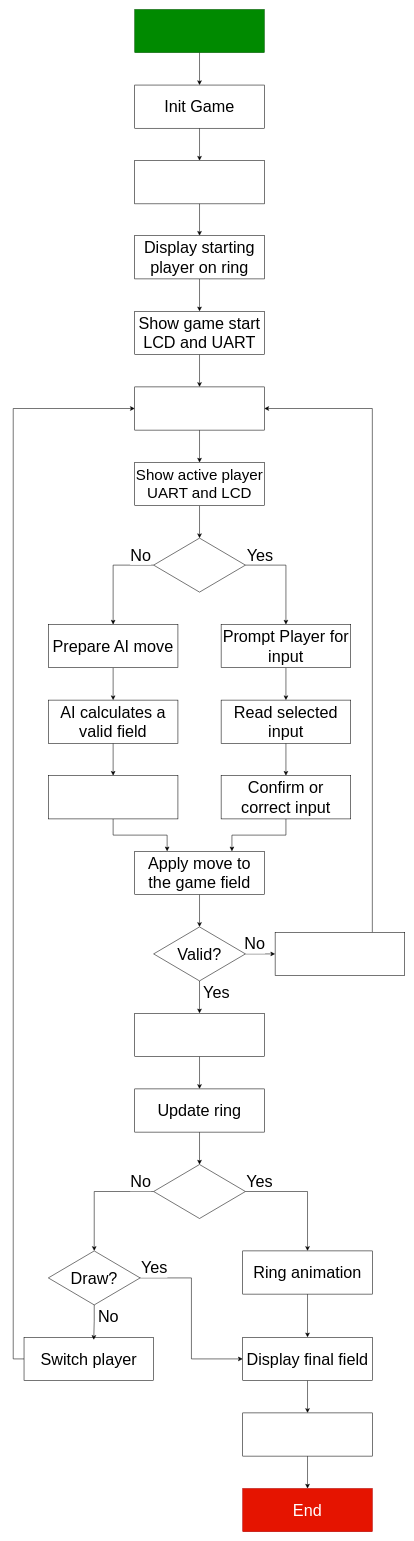
Image size: 414x1541. Some labels were removed from this diagram. The shapes that lost their labels are listed below. From the top down, each one's box as (x1, y1, x2, y2) in pixels, then its label:
(134, 9, 264, 53): Start
(134, 160, 264, 204): Select first player with RNG
(134, 386, 264, 430): Display current game field in UART
(153, 538, 245, 592): Human player turn?
(48, 775, 178, 819): Display chosen move
(275, 932, 405, 976): Show error message
(134, 1013, 264, 1057): Confirm selection
(153, 1164, 245, 1219): Win?
(242, 1412, 372, 1456): Show on LCD and UART
